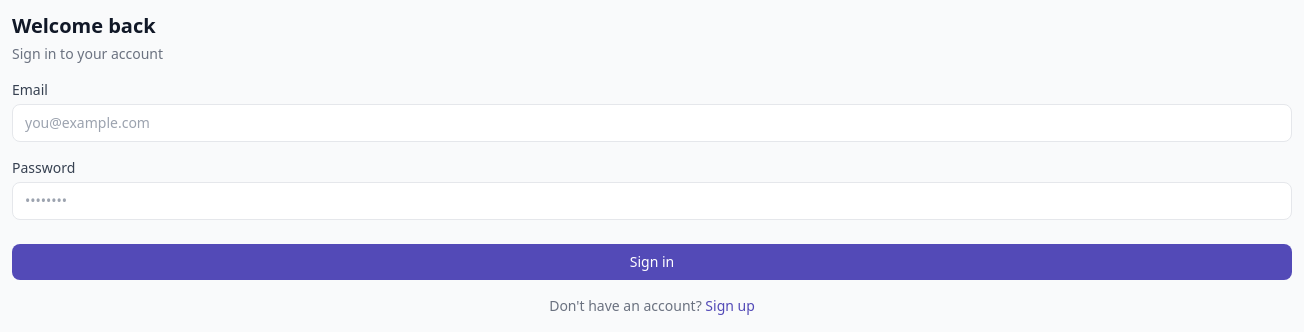
Test: LoginForm › shows loading state while submitting
The image size is (1304, 332).
Type "yashika@test.com" into the field labelled "Email" at (652, 123), box [12, 104, 1292, 142]
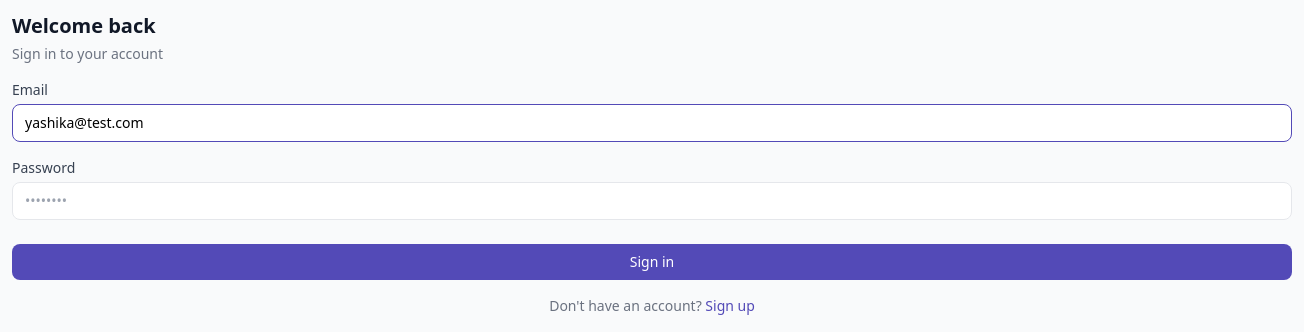
Type "password123" into the password field labelled "Password" at (652, 201), box [12, 182, 1292, 220]
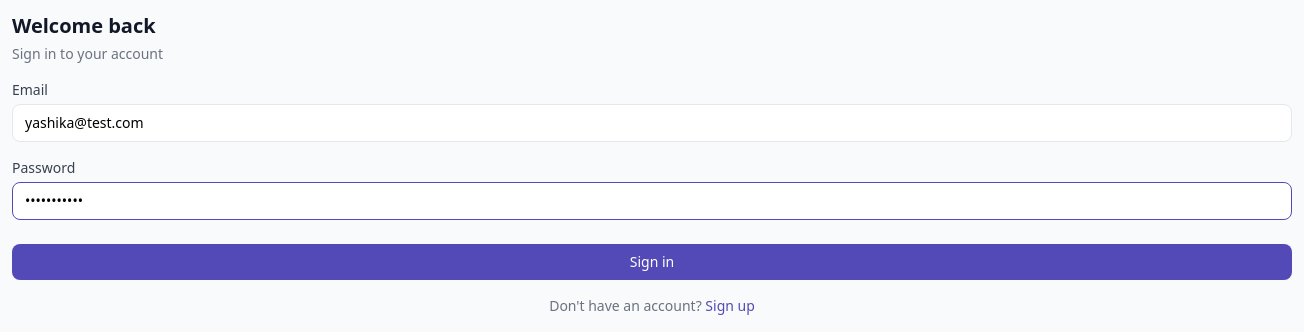
// don't await — check loading state immediately
Click the button "Sign in" at (652, 262), box [12, 244, 1292, 280]
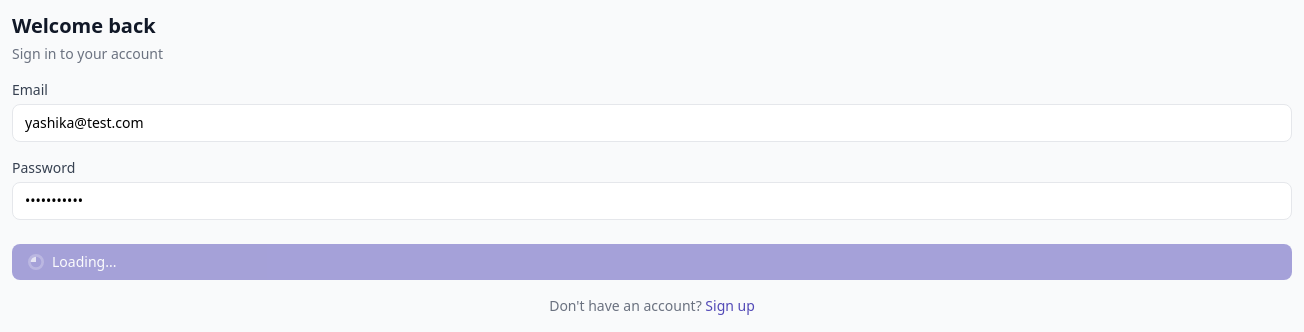
Result: the text "Loading..." is shown at [28, 252, 116, 271]
